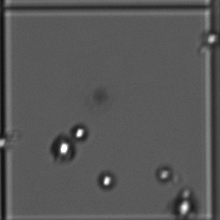Living Cell: (176, 198, 194, 216), (155, 164, 172, 183), (204, 29, 218, 48), (1, 132, 12, 155), (100, 173, 115, 188), (56, 140, 72, 154), (75, 128, 89, 138)
